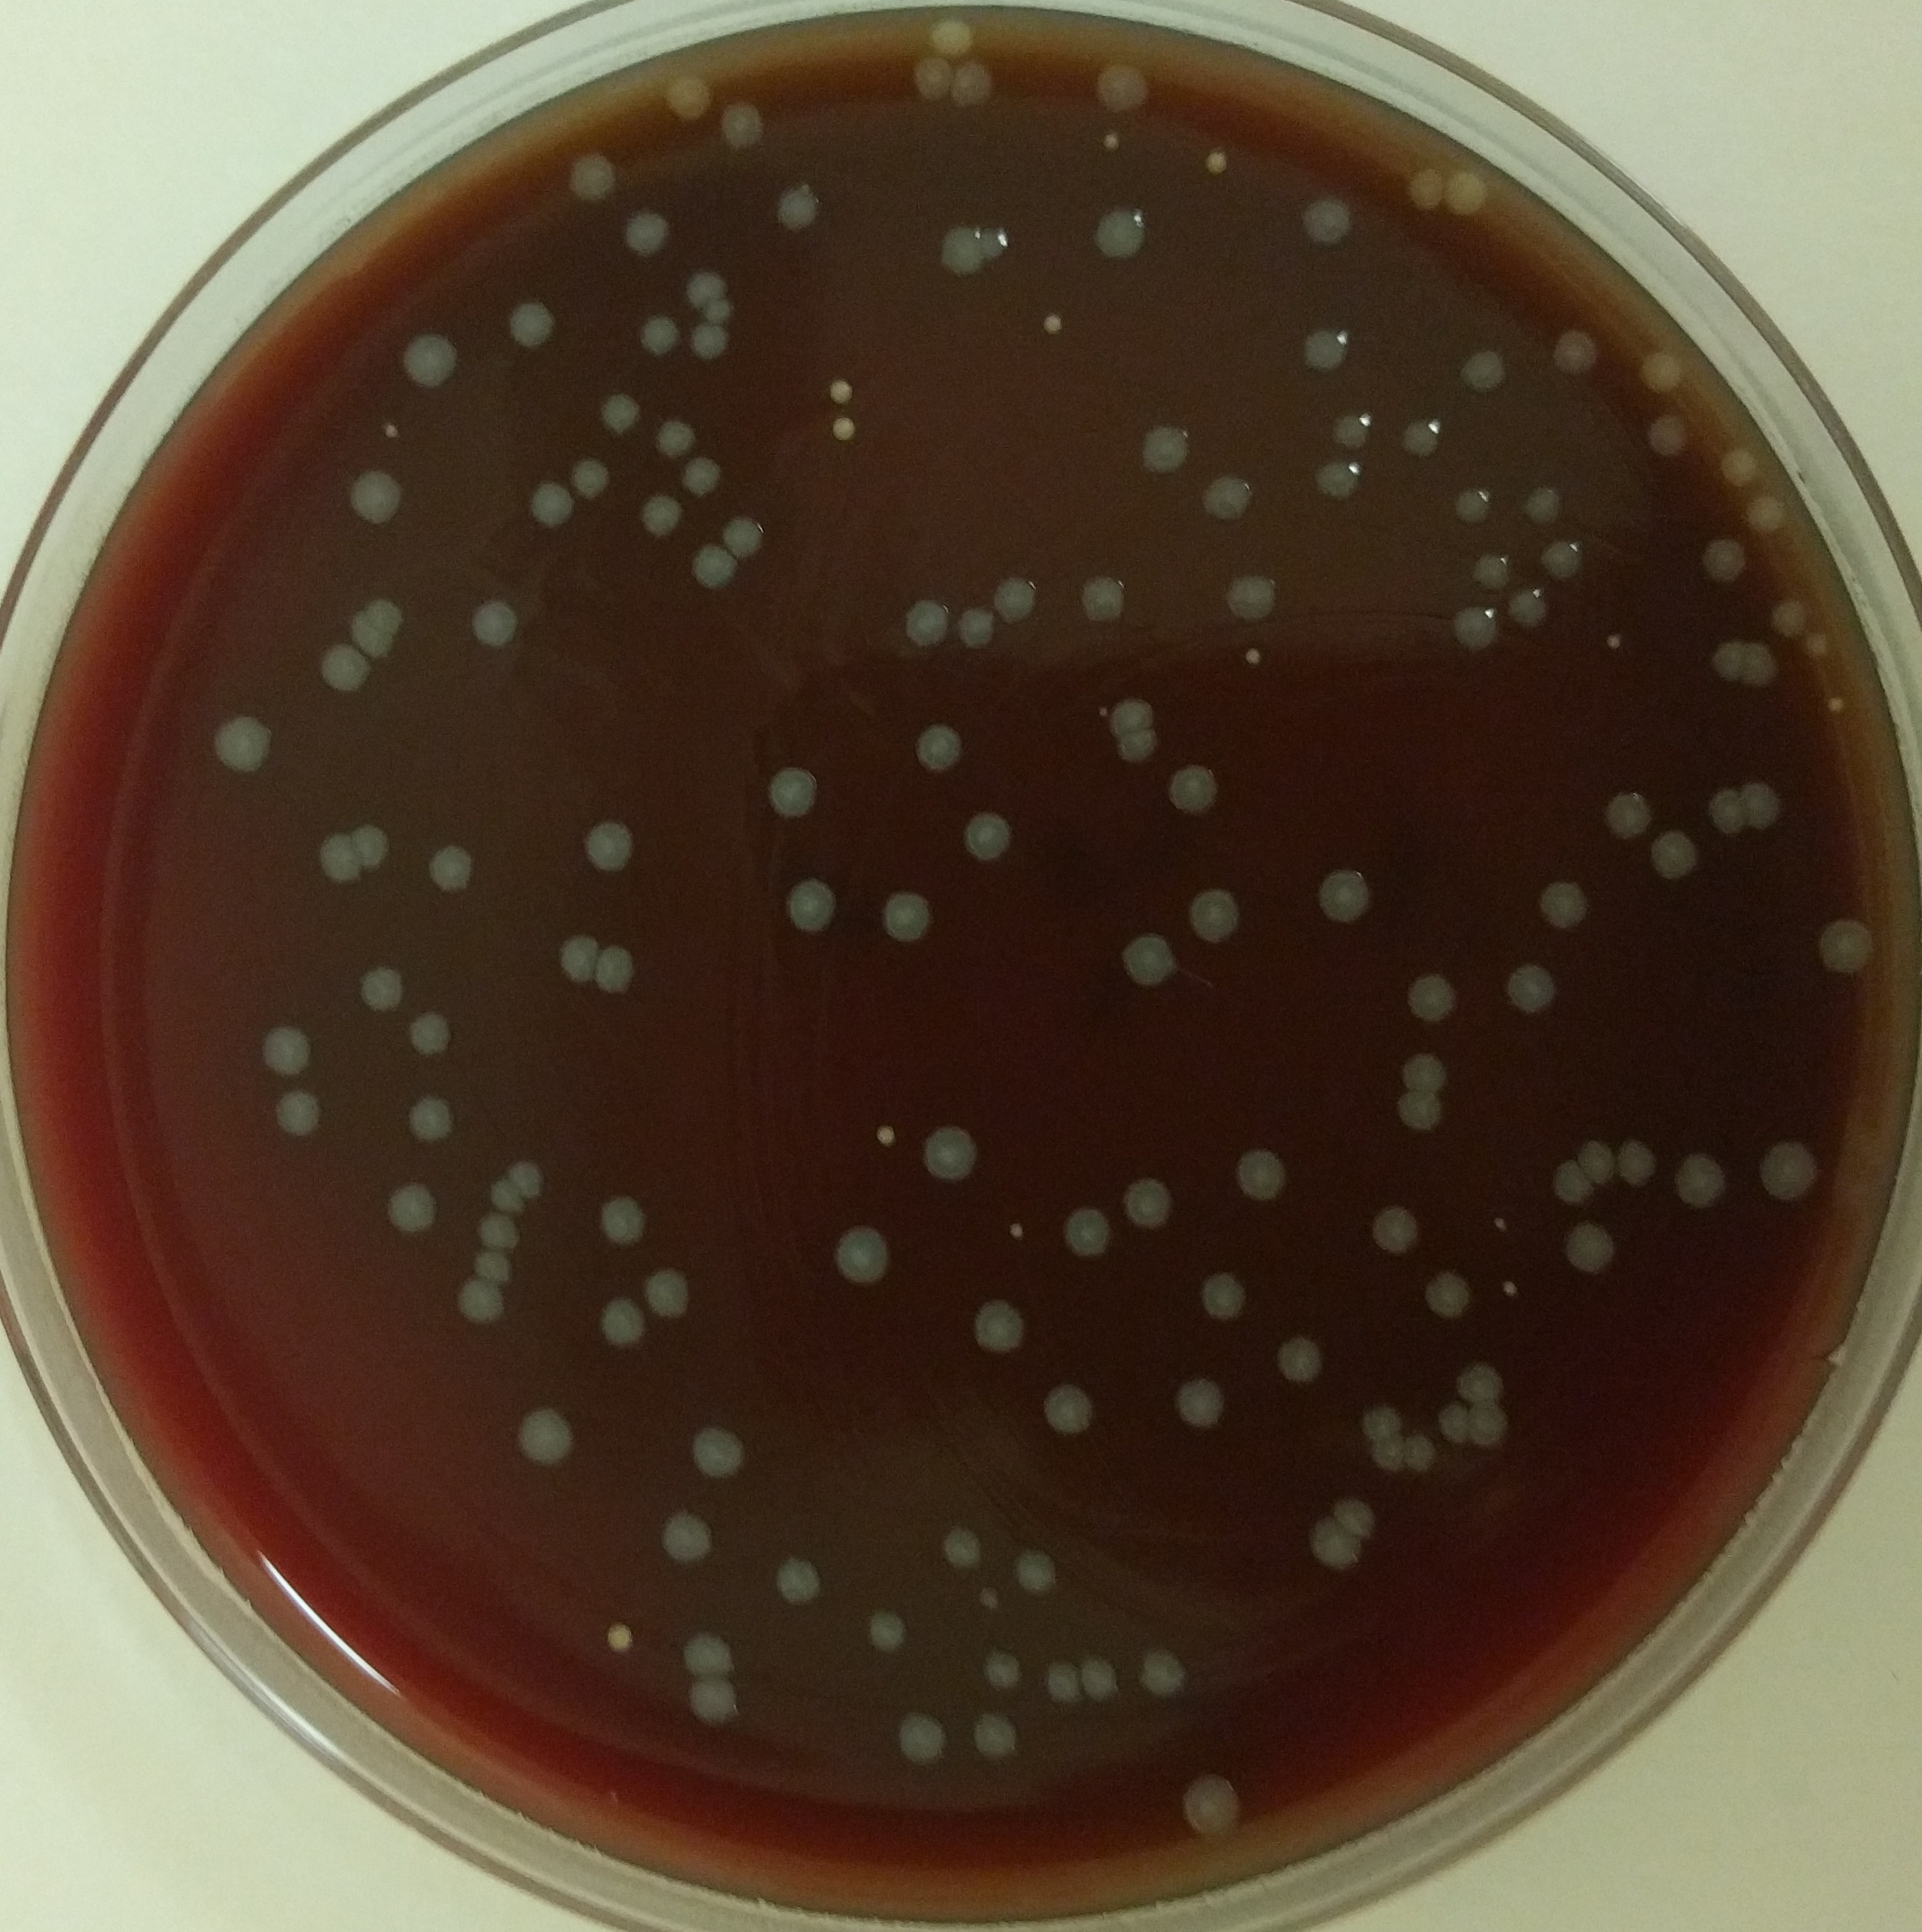sp14: (197, 707, 292, 783), (1172, 1765, 1255, 1846), (498, 1390, 583, 1469), (336, 463, 410, 537), (829, 1216, 905, 1288), (1755, 1137, 1829, 1209), (396, 324, 466, 396), (1030, 1371, 1102, 1441), (1179, 883, 1250, 952), (1665, 1145, 1737, 1212), (250, 1015, 322, 1082), (965, 1295, 1038, 1360), (1815, 911, 1883, 980), (956, 808, 1026, 875), (655, 1503, 722, 1573), (591, 1184, 664, 1249), (577, 815, 649, 880), (887, 1700, 954, 1768), (1160, 1371, 1230, 1436), (1128, 1642, 1199, 1707), (1309, 864, 1378, 929), (264, 1080, 334, 1144), (1190, 461, 1258, 524), (632, 1262, 697, 1327), (877, 885, 942, 950), (1214, 563, 1280, 628), (1051, 1202, 1119, 1263), (1162, 755, 1230, 816), (1133, 419, 1200, 480), (1225, 1144, 1292, 1205), (692, 1422, 755, 1485), (683, 1665, 748, 1726), (921, 1117, 979, 1186), (500, 296, 561, 359), (401, 1003, 463, 1066), (1193, 1265, 1255, 1328), (591, 1292, 653, 1355), (312, 640, 377, 700), (1119, 1168, 1177, 1235), (1420, 1258, 1478, 1325), (783, 860, 836, 933), (419, 838, 480, 899), (1500, 957, 1561, 1019), (1119, 931, 1181, 992), (1301, 1513, 1362, 1575), (1088, 202, 1149, 264), (560, 146, 620, 209), (757, 757, 817, 820), (306, 827, 364, 892), (401, 1089, 459, 1154), (1441, 596, 1507, 655), (1089, 60, 1151, 120), (1693, 530, 1753, 591), (965, 1707, 1028, 1765), (908, 713, 966, 776), (1397, 966, 1463, 1022), (1545, 320, 1605, 380), (1271, 1328, 1329, 1390), (461, 596, 523, 655), (1563, 1216, 1621, 1277), (452, 1270, 514, 1328), (356, 811, 414, 873), (549, 924, 598, 996), (1642, 825, 1700, 885), (1295, 194, 1355, 252), (1596, 787, 1656, 845), (771, 1548, 829, 1608), (1009, 1538, 1067, 1598), (935, 1513, 989, 1577), (1070, 572, 1133, 626), (1364, 1197, 1424, 1253), (1297, 320, 1353, 380), (1609, 1133, 1665, 1193), (1533, 878, 1595, 933), (859, 1603, 912, 1666), (1452, 341, 1510, 398), (658, 72, 716, 128), (1450, 1351, 1507, 1409), (674, 459, 732, 516), (1306, 450, 1368, 503), (1732, 774, 1785, 836), (1089, 692, 1162, 735), (350, 961, 407, 1017), (1396, 1084, 1450, 1142), (715, 99, 773, 153), (894, 596, 949, 655), (767, 179, 825, 234), (977, 1636, 1030, 1696), (590, 940, 641, 1001), (1392, 1047, 1454, 1098), (1514, 475, 1570, 530), (1633, 341, 1690, 396), (685, 535, 737, 593), (1737, 633, 1790, 692), (385, 1181, 447, 1230), (1102, 723, 1167, 769), (634, 486, 692, 537), (560, 457, 618, 509), (590, 384, 641, 440), (924, 14, 984, 62), (954, 51, 1000, 113), (1642, 408, 1695, 461), (952, 604, 1005, 656), (906, 49, 956, 106), (1329, 1490, 1387, 1538), (526, 477, 577, 530), (1450, 475, 1500, 530), (1702, 783, 1751, 838), (713, 507, 764, 558), (683, 317, 734, 368), (1396, 160, 1445, 213), (1441, 162, 1486, 220), (618, 211, 669, 260), (1537, 533, 1589, 581), (472, 1204, 526, 1249), (1577, 1137, 1621, 1193), (482, 1175, 539, 1219), (994, 568, 1037, 626), (674, 1624, 727, 1670), (1394, 410, 1443, 457), (473, 1237, 521, 1286), (1327, 403, 1376, 450), (1709, 438, 1760, 484), (1081, 1647, 1121, 1703), (1355, 1399, 1412, 1439), (649, 412, 699, 457), (940, 223, 984, 274), (1468, 1399, 1510, 1452), (1047, 1650, 1084, 1710), (350, 612, 398, 658), (1500, 584, 1547, 630), (1399, 1425, 1443, 1475), (634, 306, 676, 357), (1704, 633, 1746, 684), (1552, 1154, 1593, 1207), (1765, 589, 1809, 637), (1466, 544, 1515, 586), (1748, 484, 1788, 533), (598, 1615, 637, 1659), (1366, 1429, 1410, 1467), (679, 266, 727, 301), (366, 595, 408, 632), (1441, 1401, 1468, 1443), (972, 1577, 1001, 1612), (982, 225, 1009, 264), (1801, 626, 1830, 660)
